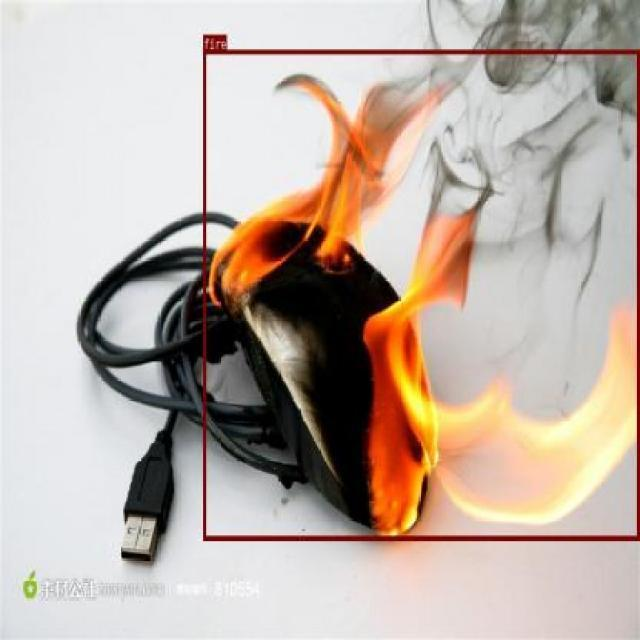Fire: (421, 294, 437, 489)
